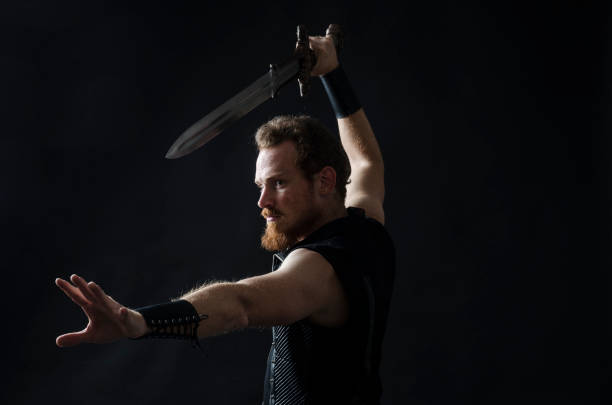knife: (165, 20, 349, 162)
